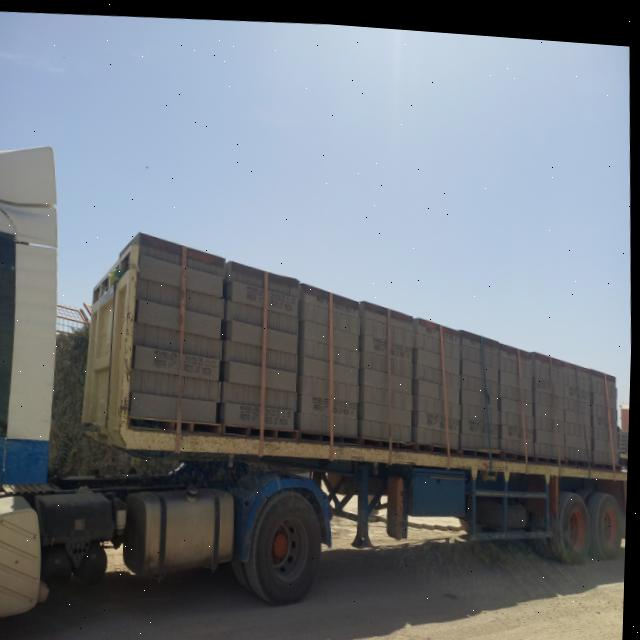bricks: (182, 250, 622, 469), (131, 236, 184, 423)
